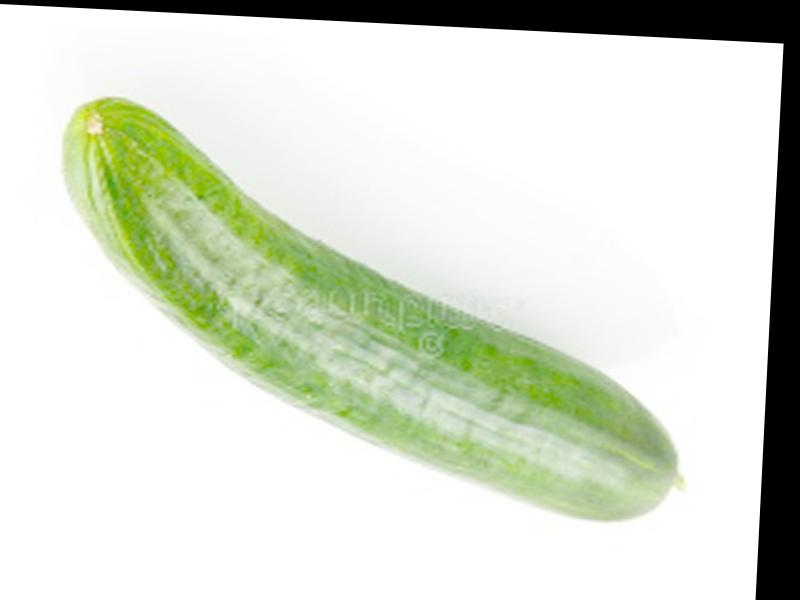Cucumber: (45, 94, 695, 524)
